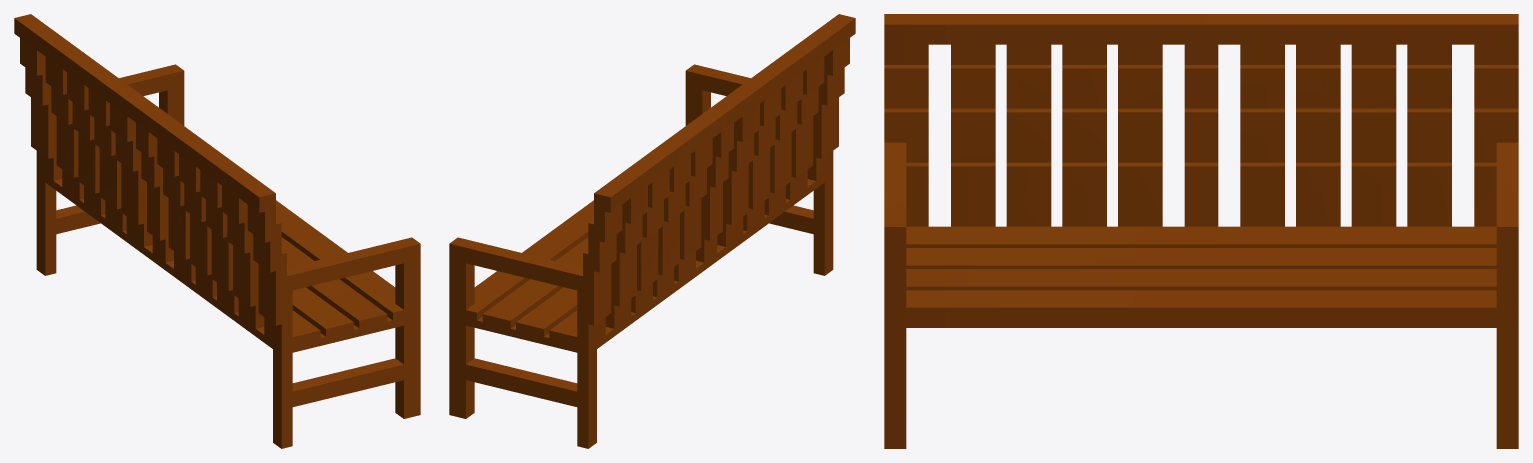
File: bench0.glb
3 renders of one model, left to right at view 1: azimuth 30°, elevation 25°; view 2: azimuth 150°, elevation 25°; view 3: azimuth 270°, elevation 25°, orthographic. The views are drawn at different scales.
Visible parts, largest first — view 1: geometry_0; view 2: geometry_0; view 3: geometry_0.
Part boxes in pixels (x1,y1,x2,y2): geometry_0: [14, 14, 420, 448]; geometry_0: [449, 14, 855, 448]; geometry_0: [884, 14, 1518, 448].
Size of the model in its own units: 1.55 by 2.37 by 4.09.
1 material, 1 textured.
